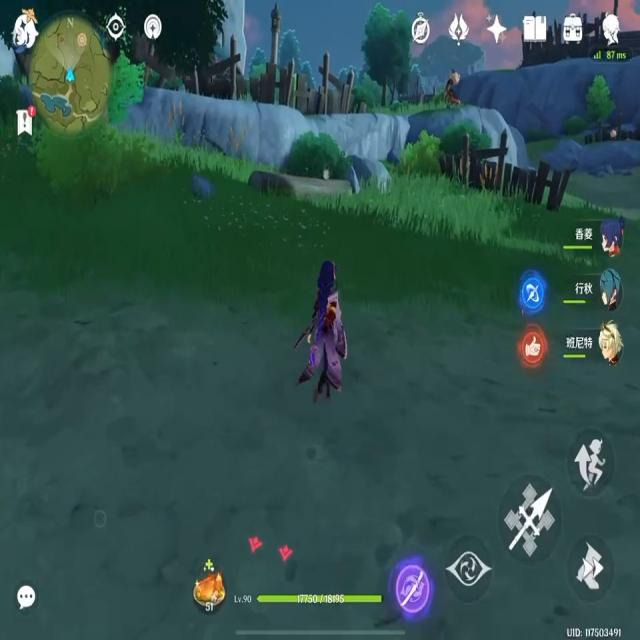genshin-hilichurls: (444, 72, 462, 107)
